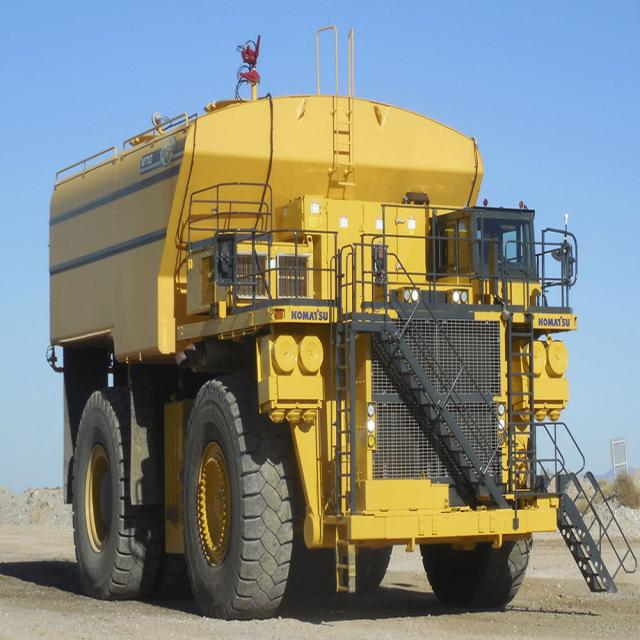dump_truck: (55, 21, 624, 608)
